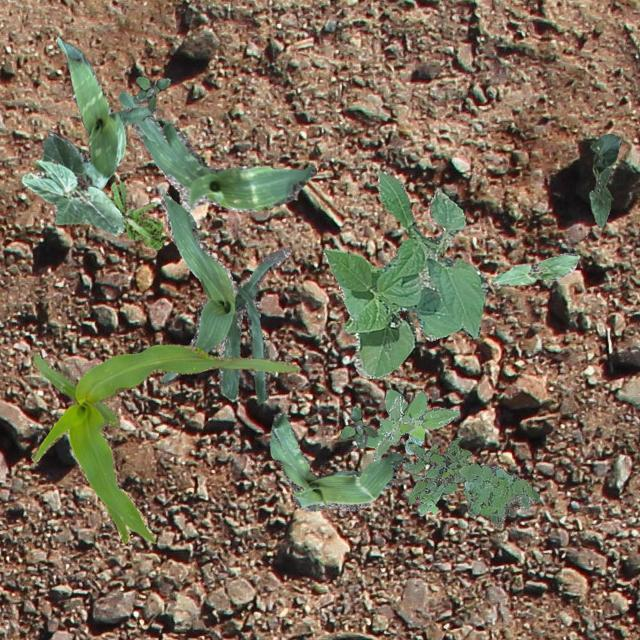crop: (29, 343, 300, 542), (322, 170, 486, 378), (160, 192, 288, 402), (117, 90, 316, 212), (55, 35, 156, 188), (268, 412, 402, 511), (21, 133, 124, 235), (588, 132, 620, 226), (491, 252, 578, 286)
weed: (364, 388, 458, 453), (402, 436, 472, 514), (456, 462, 538, 524), (106, 180, 162, 248), (372, 396, 413, 461), (339, 406, 376, 448), (132, 74, 170, 110)
